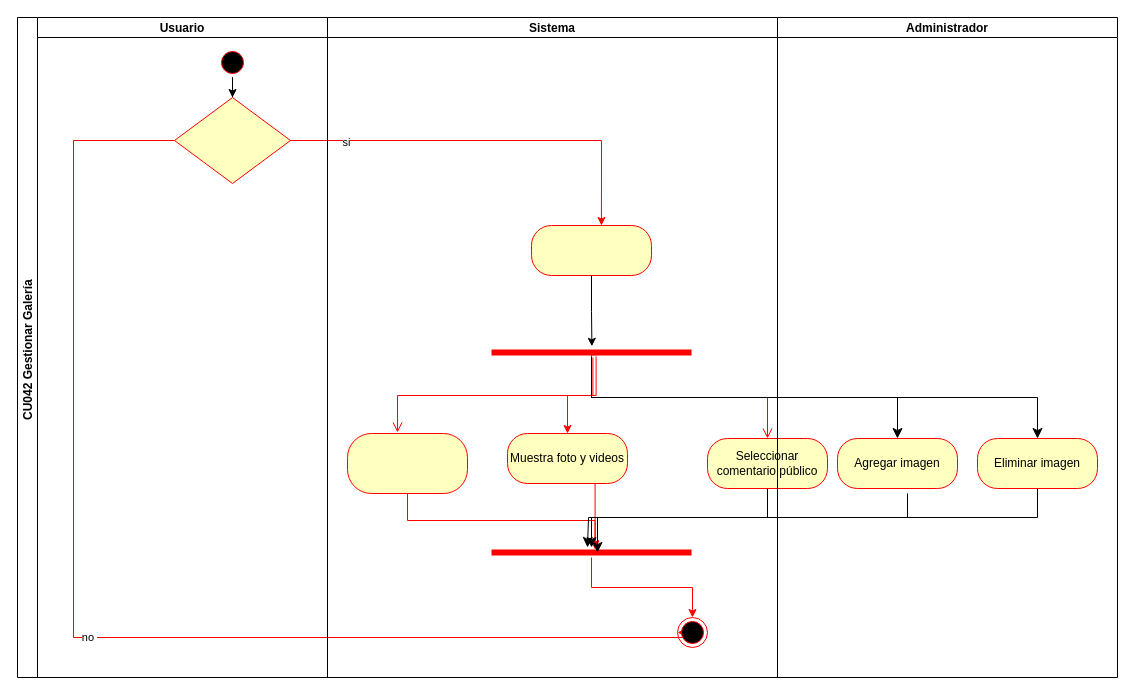
Image size: 1135x695. Some labels were removed from this diagram. Each missing label, with the centre of its shape:
Lo redirige al apartado: [591,250]
Pulsar el aparatado de "Galería": [232,140]
Ver comentarios: [407,463]
